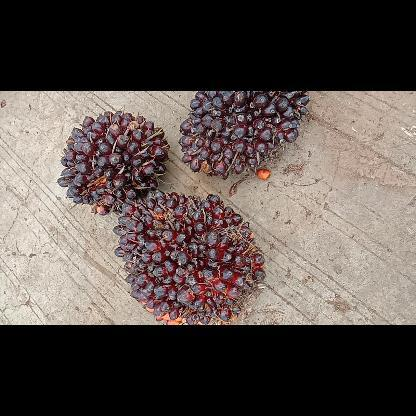TBS mentah: (112, 188, 268, 324), (57, 108, 171, 216), (177, 91, 313, 181)
